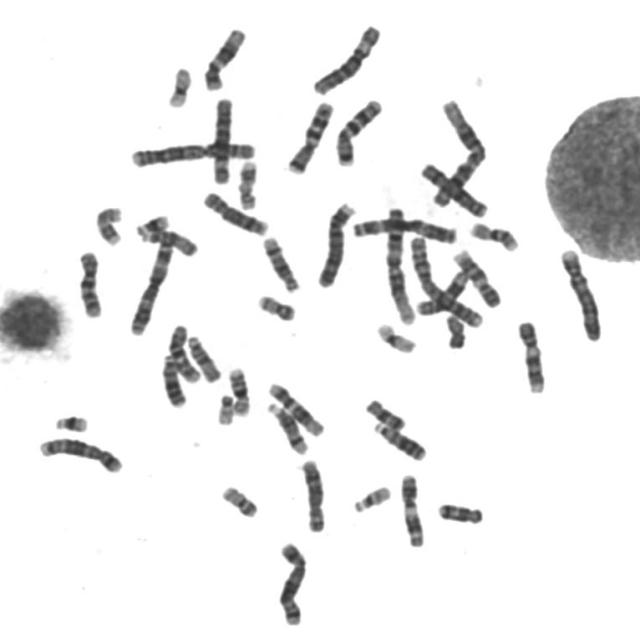A1: (428, 94, 489, 210), (380, 201, 419, 328)
A2: (406, 230, 486, 330), (126, 136, 257, 169)
A3: (126, 236, 176, 337), (348, 213, 460, 245)
B4: (556, 244, 605, 343), (313, 198, 358, 289)
B5: (34, 433, 126, 475), (273, 538, 309, 627)
C10: (165, 320, 202, 384), (74, 246, 105, 320)
C11: (413, 266, 471, 316), (397, 469, 428, 549)
C12: (264, 377, 327, 438), (201, 23, 248, 92)
C6: (309, 20, 384, 97), (208, 92, 236, 186)
C7: (282, 97, 337, 176), (331, 94, 386, 168)
C8: (198, 188, 271, 238), (296, 455, 328, 534)
C9: (449, 245, 503, 309), (513, 316, 549, 395)
D13: (370, 419, 429, 462), (157, 351, 189, 409)
D14: (258, 232, 303, 294), (263, 398, 311, 456)
D15: (134, 223, 200, 258), (183, 330, 224, 384)
E16: (466, 218, 522, 253), (224, 363, 253, 418)
E17: (91, 202, 125, 248), (233, 156, 260, 211)
E18: (362, 395, 408, 432), (434, 498, 486, 526)
F19: (372, 318, 418, 355), (164, 63, 194, 109)
F20: (217, 481, 261, 519), (253, 290, 298, 322)
G21: (132, 210, 171, 240), (50, 410, 90, 434)
G22: (348, 481, 394, 515), (213, 390, 237, 426)
X: (416, 158, 491, 218)
